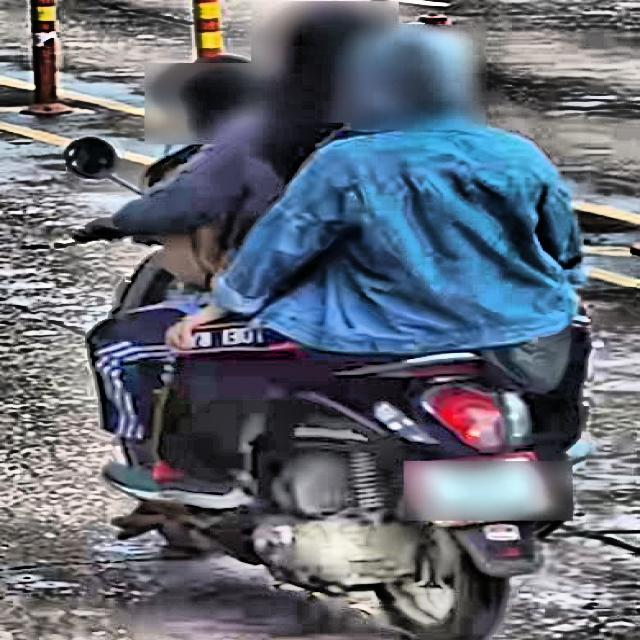motorcycle: (53, 123, 592, 636)
